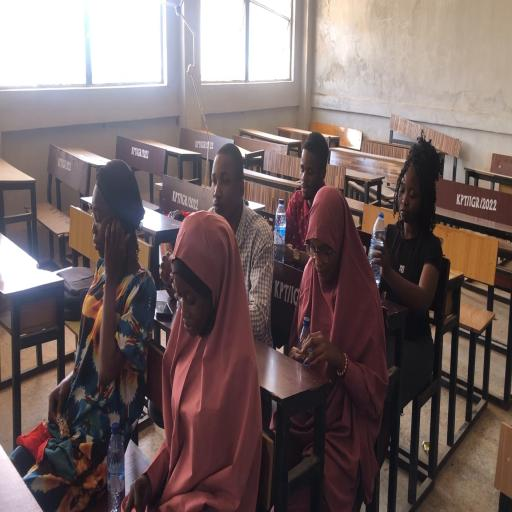Eating: (290, 187, 388, 508), (262, 106, 360, 398), (359, 141, 443, 408)
